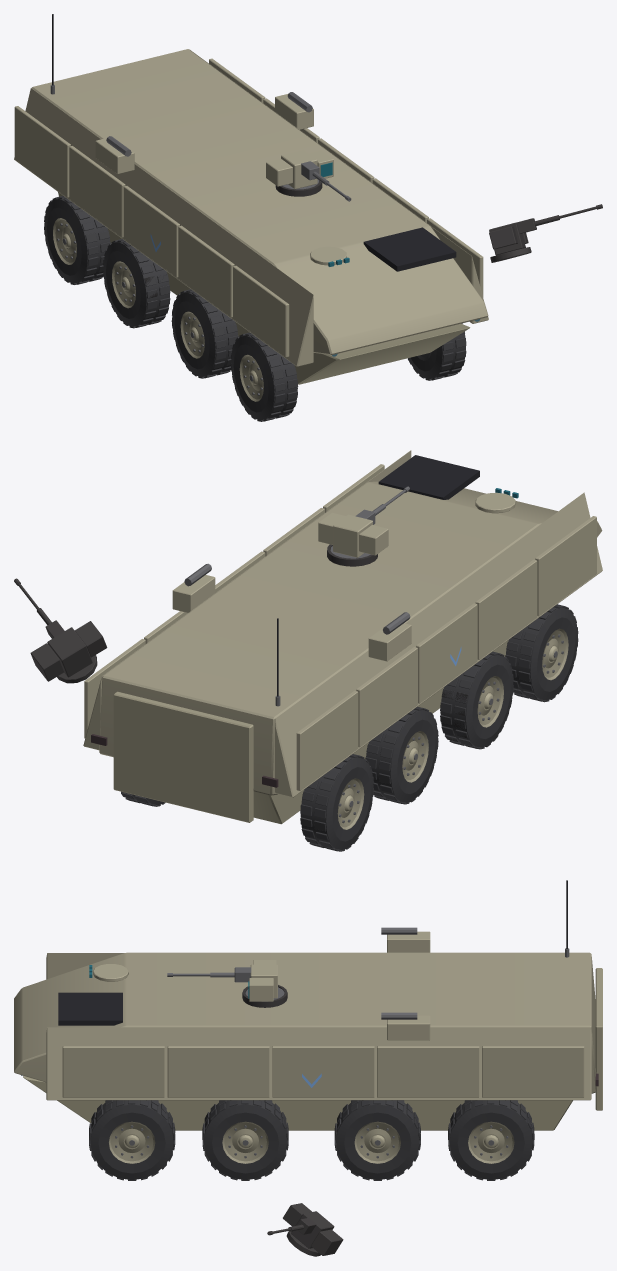
Rendered from apc__eitan.glb.
The picture shows the model from 3 angles, top to bottom: view 1: azimuth 30°, elevation 25°; view 2: azimuth 150°, elevation 25°; view 3: azimuth 270°, elevation 25°; orthographic projection. The views are drawn at different scales.
Parts seen in each view (by area): view 1: Hull_Mesh, Wheel_L3_Mesh, Wheel_L1_Mesh, Wheel_L0_Mesh, Wheel_L2_Mesh, Wreck, Turret_Mesh, Wheel_R3_Mesh; view 2: Hull_Mesh, Wheel_L0_Mesh, Wheel_L2_Mesh, Wheel_L3_Mesh, Wheel_L1_Mesh, Wreck, Turret_Mesh; view 3: Hull_Mesh, Wheel_R2_Mesh, Wheel_R1_Mesh, Wheel_R3_Mesh, Wheel_R0_Mesh, Wreck, Turret_Mesh, Gun_Mesh.
Part boxes in pixels (box(x1,y1,x2,y2)): Hull_Mesh: box(14, 14, 488, 384); Wheel_L3_Mesh: box(230, 332, 298, 421); Wheel_L1_Mesh: box(103, 239, 170, 328); Wheel_L0_Mesh: box(44, 196, 110, 284); Wheel_L2_Mesh: box(171, 289, 238, 378); Wreck: box(66, 180, 602, 421); Turret_Mesh: box(266, 150, 333, 189); Wheel_R3_Mesh: box(408, 323, 466, 380); Hull_Mesh: box(83, 450, 602, 824); Wheel_L0_Mesh: box(300, 754, 373, 851); Wheel_L2_Mesh: box(440, 651, 513, 749); Wheel_L3_Mesh: box(505, 604, 578, 702); Wheel_L1_Mesh: box(365, 706, 438, 804); Wreck: box(14, 544, 538, 847); Turret_Mesh: box(318, 512, 388, 558); Hull_Mesh: box(14, 880, 602, 1130); Wheel_R2_Mesh: box(202, 1100, 288, 1180); Wheel_R1_Mesh: box(334, 1100, 420, 1180); Wheel_R3_Mesh: box(89, 1100, 175, 1180); Wheel_R0_Mesh: box(448, 1100, 534, 1180); Wreck: box(112, 985, 524, 1256); Turret_Mesh: box(245, 960, 284, 1001); Gun_Mesh: box(167, 967, 251, 982).
Size of what is drawn, in the model's own units: 6.57 by 3.43 by 8.2.
